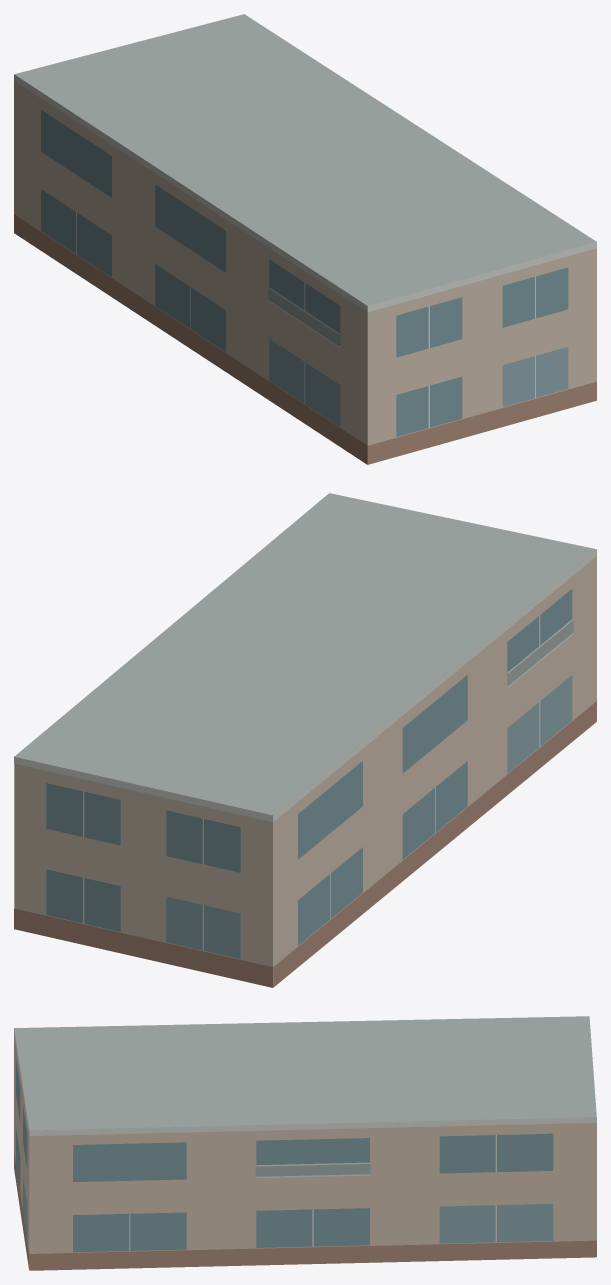
Rendered from survey-upis-32509597.glb.
3 views of the same model, one above another, from view 1: azimuth 30°, elevation 25°; view 2: azimuth 150°, elevation 25°; view 3: azimuth 270°, elevation 25° (orthographic). The views are drawn at different scales.
Visible parts, largest first — view 1: survey-upis-32509597.tmp; view 2: survey-upis-32509597.tmp; view 3: survey-upis-32509597.tmp.
Part boxes in pixels (x1,y1,x2,y2): survey-upis-32509597.tmp: [14, 14, 596, 464]; survey-upis-32509597.tmp: [14, 493, 596, 987]; survey-upis-32509597.tmp: [14, 1016, 596, 1270].
Bounding box in the file's own units: 10.68 × 6.1 × 22.99.
